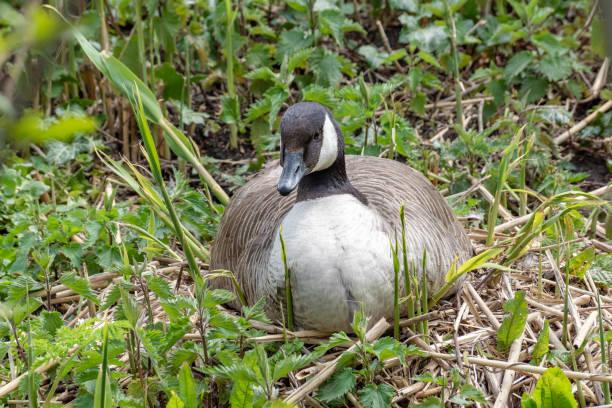Canadian-Goose: (217, 103, 470, 328)
